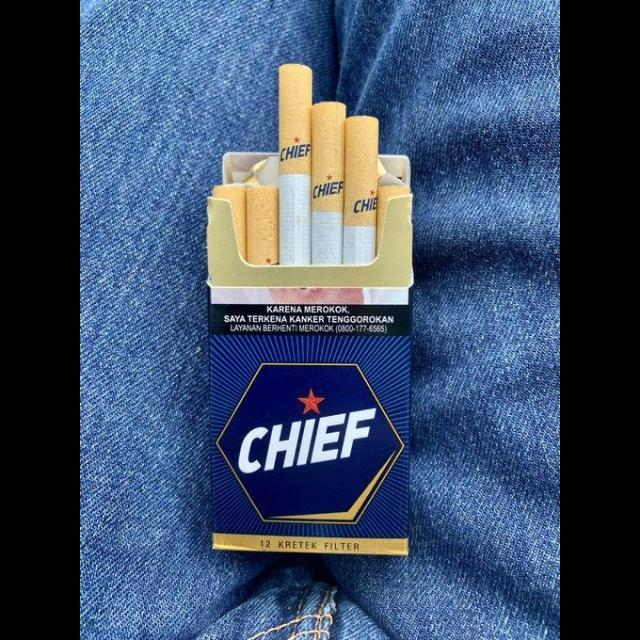rokok: (277, 59, 313, 264), (308, 97, 344, 266), (345, 112, 377, 264), (245, 187, 279, 266)
